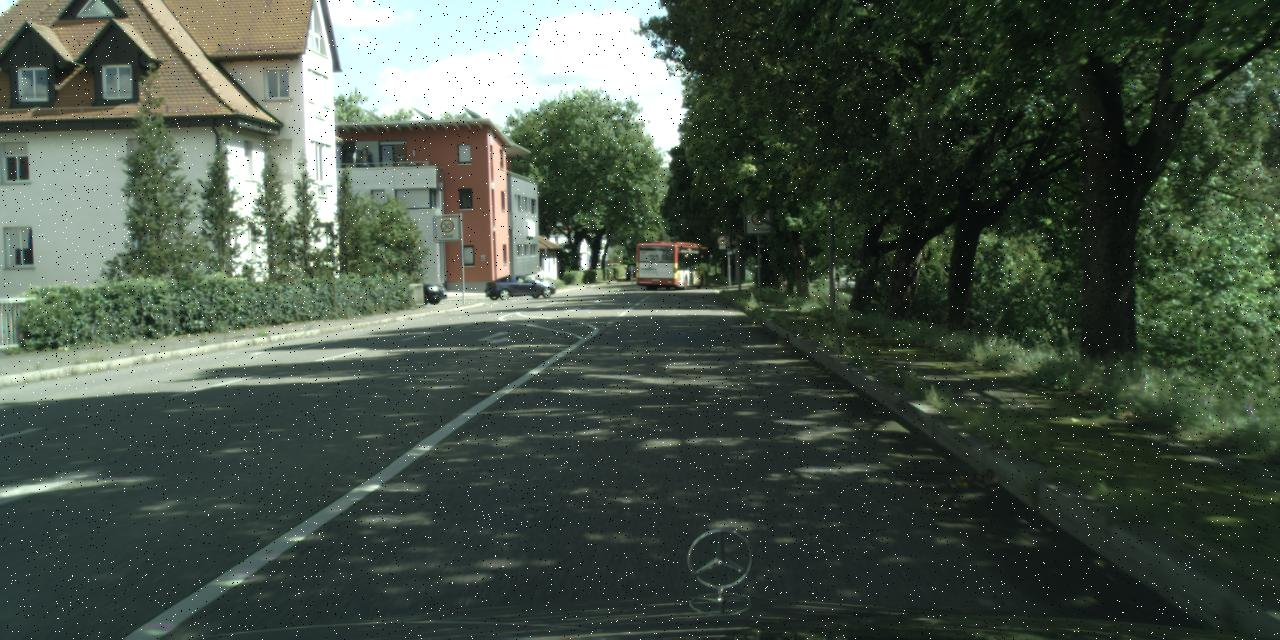ped: (534, 266, 544, 290)
